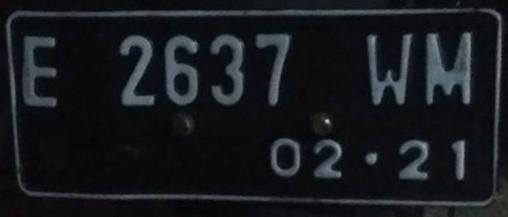clone-license-plate: (6, 10, 501, 208)
